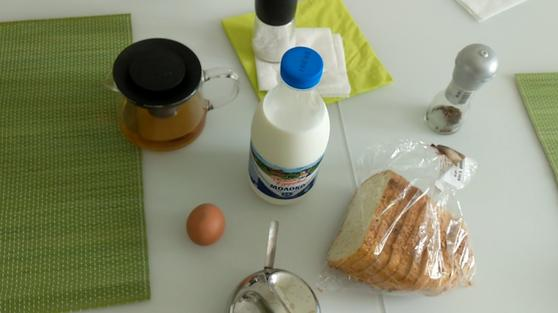egg: (185, 203, 228, 247)
milk: (250, 45, 332, 199)
white_bread: (329, 172, 477, 297)
